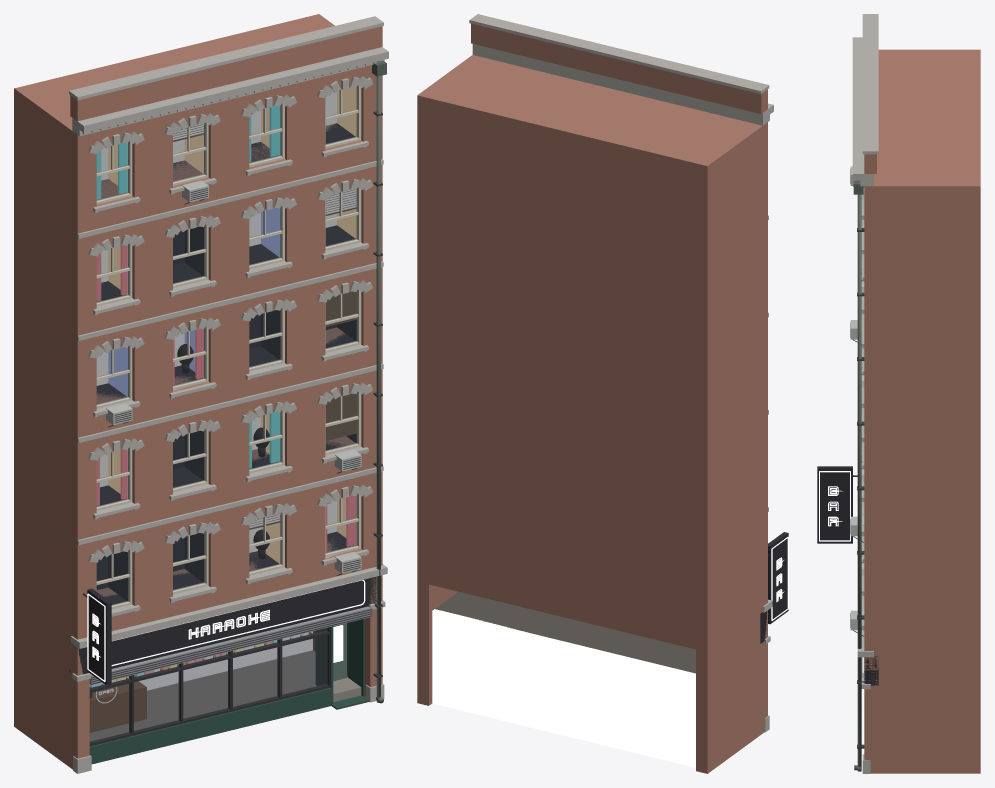
File: bldg_2.glb
The picture shows the model from 3 angles, left to right: view 1: azimuth 30°, elevation 25°; view 2: azimuth 150°, elevation 25°; view 3: azimuth 270°, elevation 25°; orthographic projection. The views are drawn at different scales.
Parts seen in each view (by area): view 1: bldg_2; view 2: bldg_2; view 3: bldg_2.
Boxes of the visible parts, x1,y1,x2,y2 form: bldg_2: (14, 14, 388, 773); bldg_2: (417, 14, 788, 773); bldg_2: (817, 14, 980, 773).
Size of the model in its own units: 10.1 by 21.2 by 5.05.
